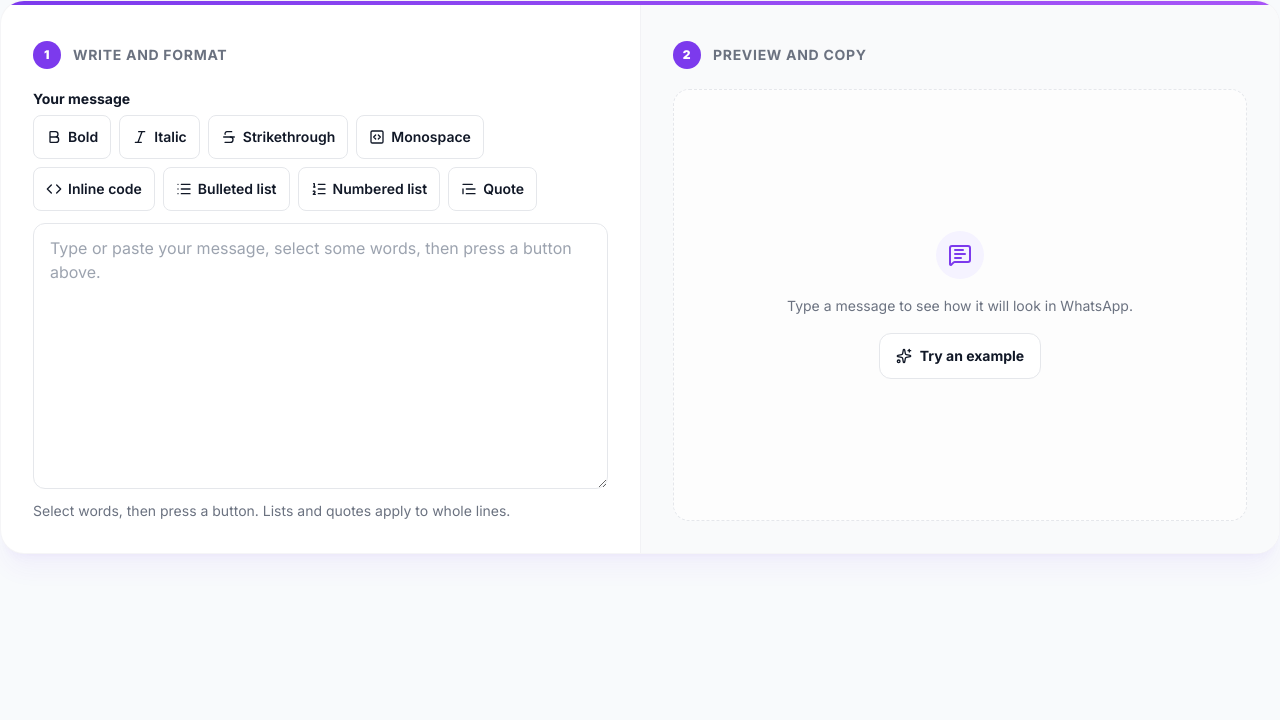
TextFormatter › offers an example before anything is typed
Expected: the text "Type a message to see how it will look in WhatsApp." is shown, [787,295,1133,317]
Click the button "Try an example" at (960, 356), box [879,333,1041,379]
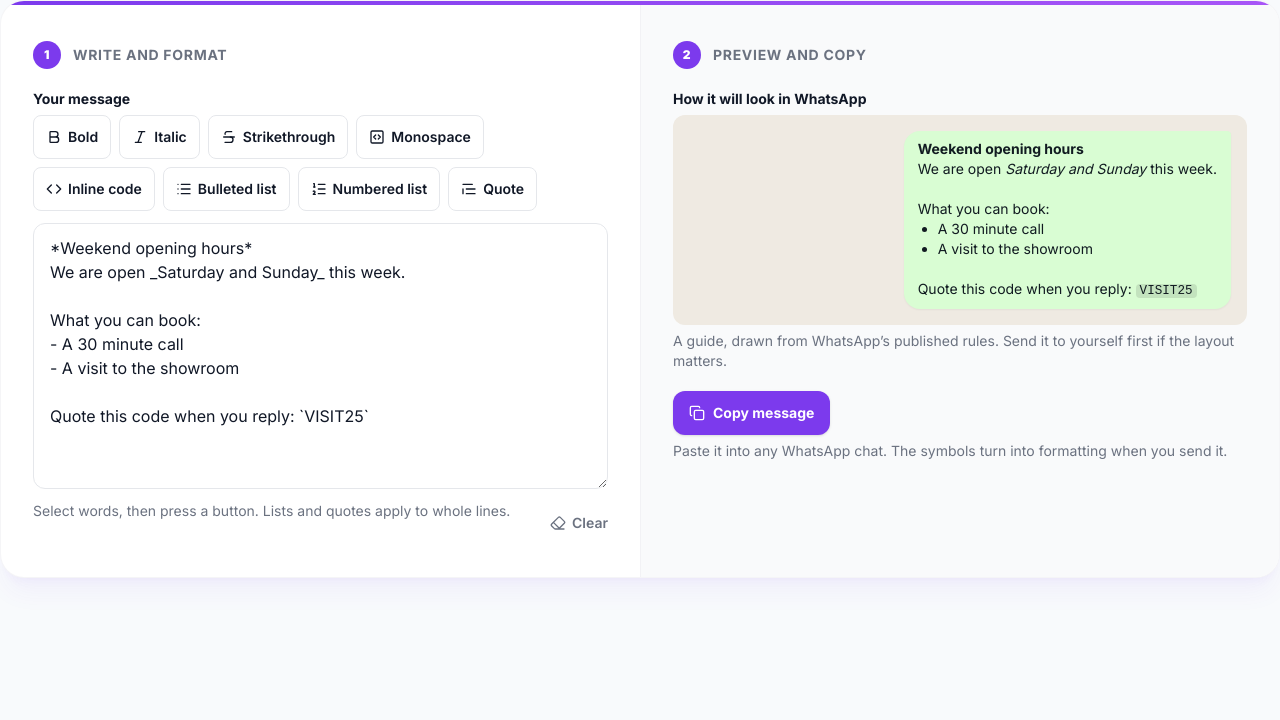
Result: the text "Weekend opening hours" is shown at [918,140,1084,157]
